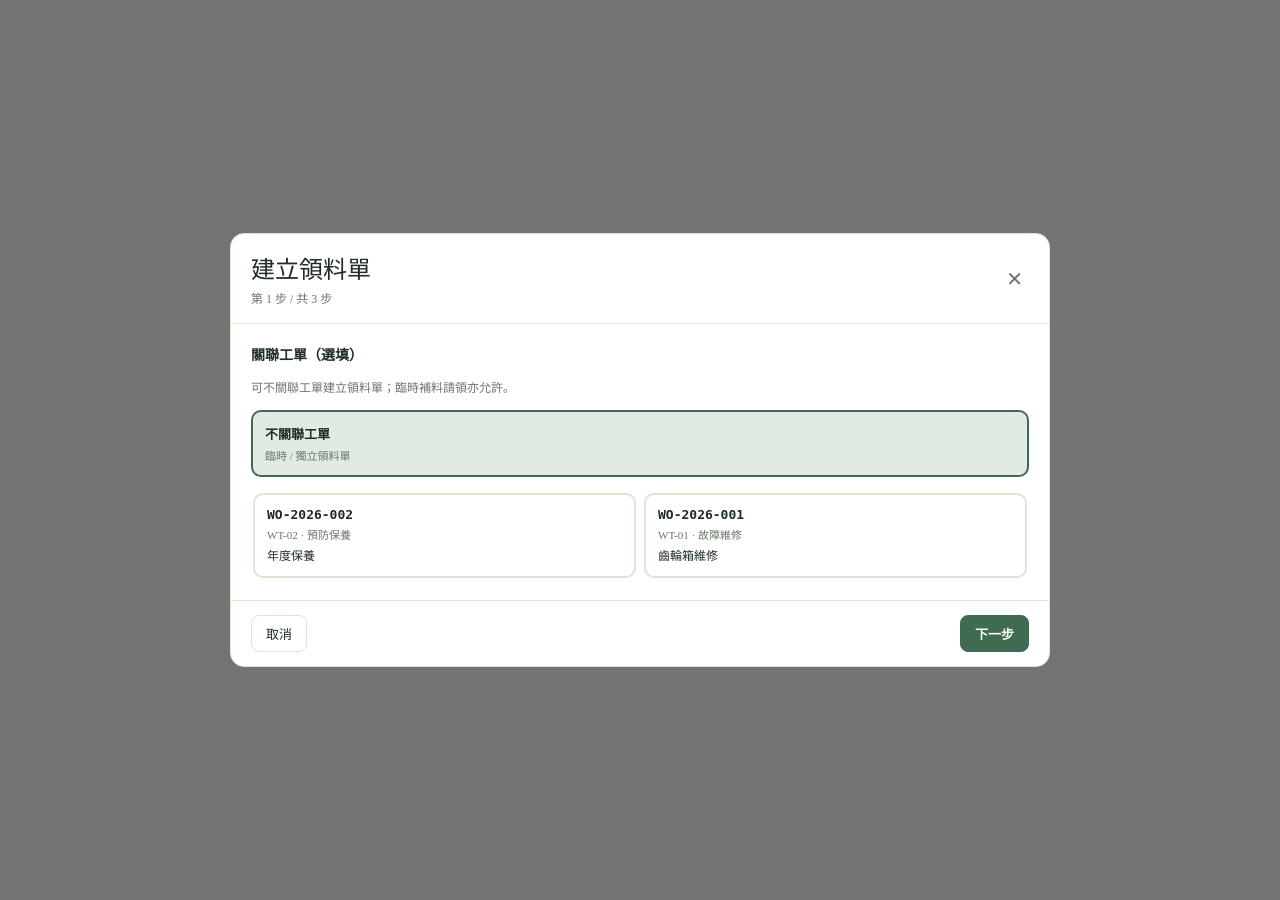
Test: CreateMaterialRequestWizard — Step 2 料件 picker › 無符合料件 → 顯示空提示
Click the button "下一步" at x=994, y=634, box x1=960 y1=615 x2=1029 y2=652
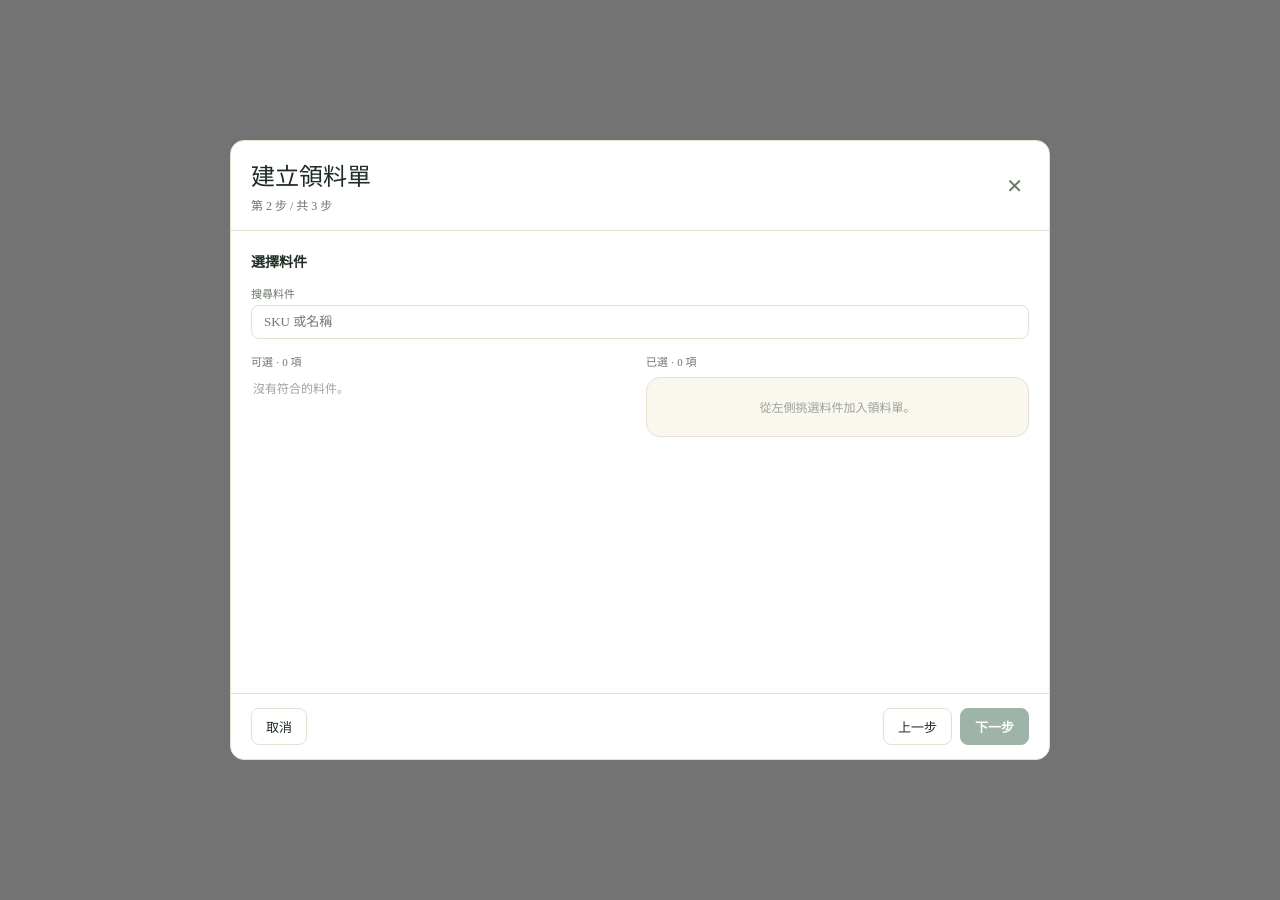
Result: the text "沒有符合的料件。" is shown at x1=253 y1=382 x2=349 y2=396
